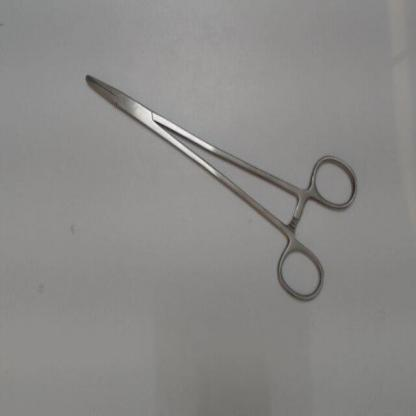8 Mayo Needle Holder: (76, 60, 365, 311)
